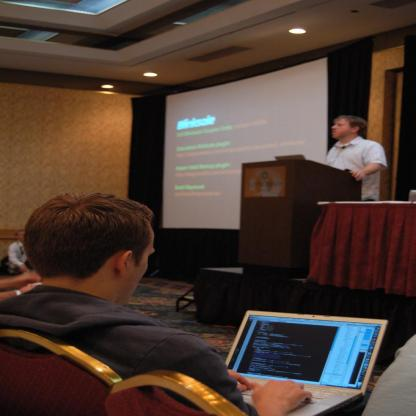board: (229, 310, 390, 412)
